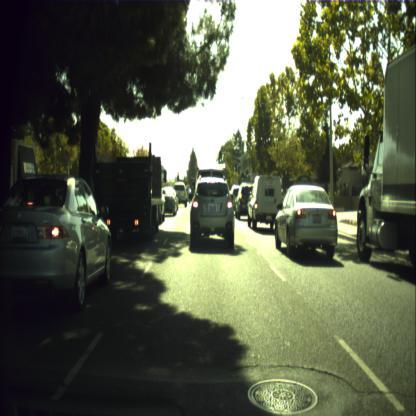Green: (219, 152, 221, 162), (246, 170, 248, 177), (242, 172, 243, 180)
Red: (176, 172, 178, 180)
